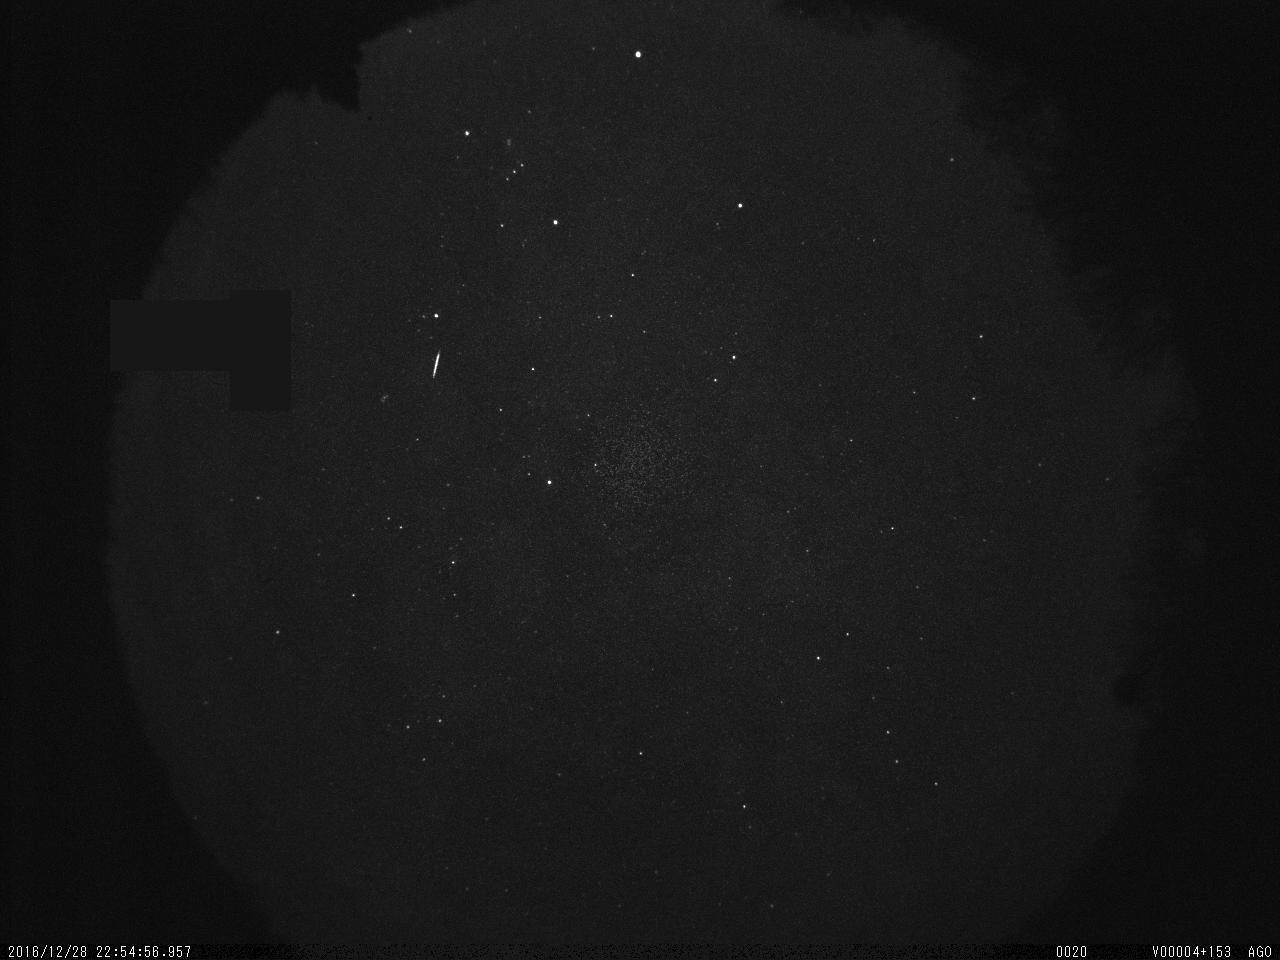meteor: (415, 335, 456, 394)
